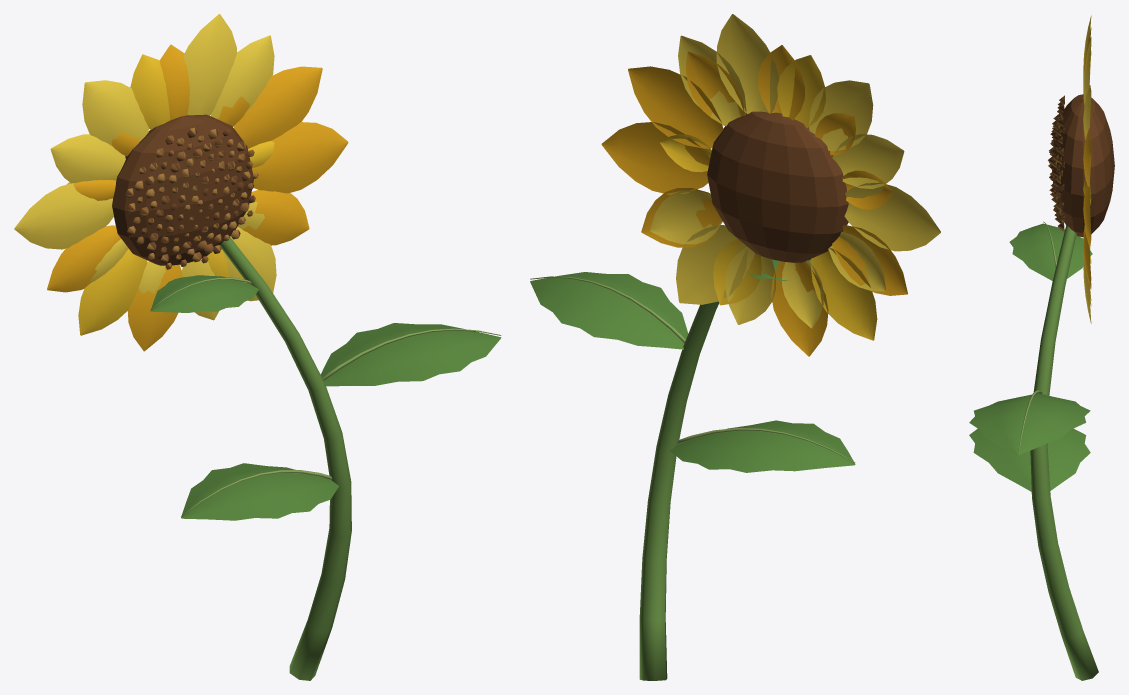
File: sunflower-test-bloom-1-1.glb
3 views of the same model, side by side, from view 1: azimuth 30°, elevation 25°; view 2: azimuth 150°, elevation 25°; view 3: azimuth 270°, elevation 25° (orthographic). The views are drawn at different scales.
Parts seen in each view (by area): view 1: Curved tapered stem; view 2: Curved tapered stem; view 3: Curved tapered stem.
Part boxes in pixels (bbox=[...]): Curved tapered stem: bbox=[14, 14, 501, 680]; Curved tapered stem: bbox=[530, 14, 940, 680]; Curved tapered stem: bbox=[969, 15, 1114, 680].
Size of the model in its own units: 0.3294 by 0.4809 by 0.1056.
